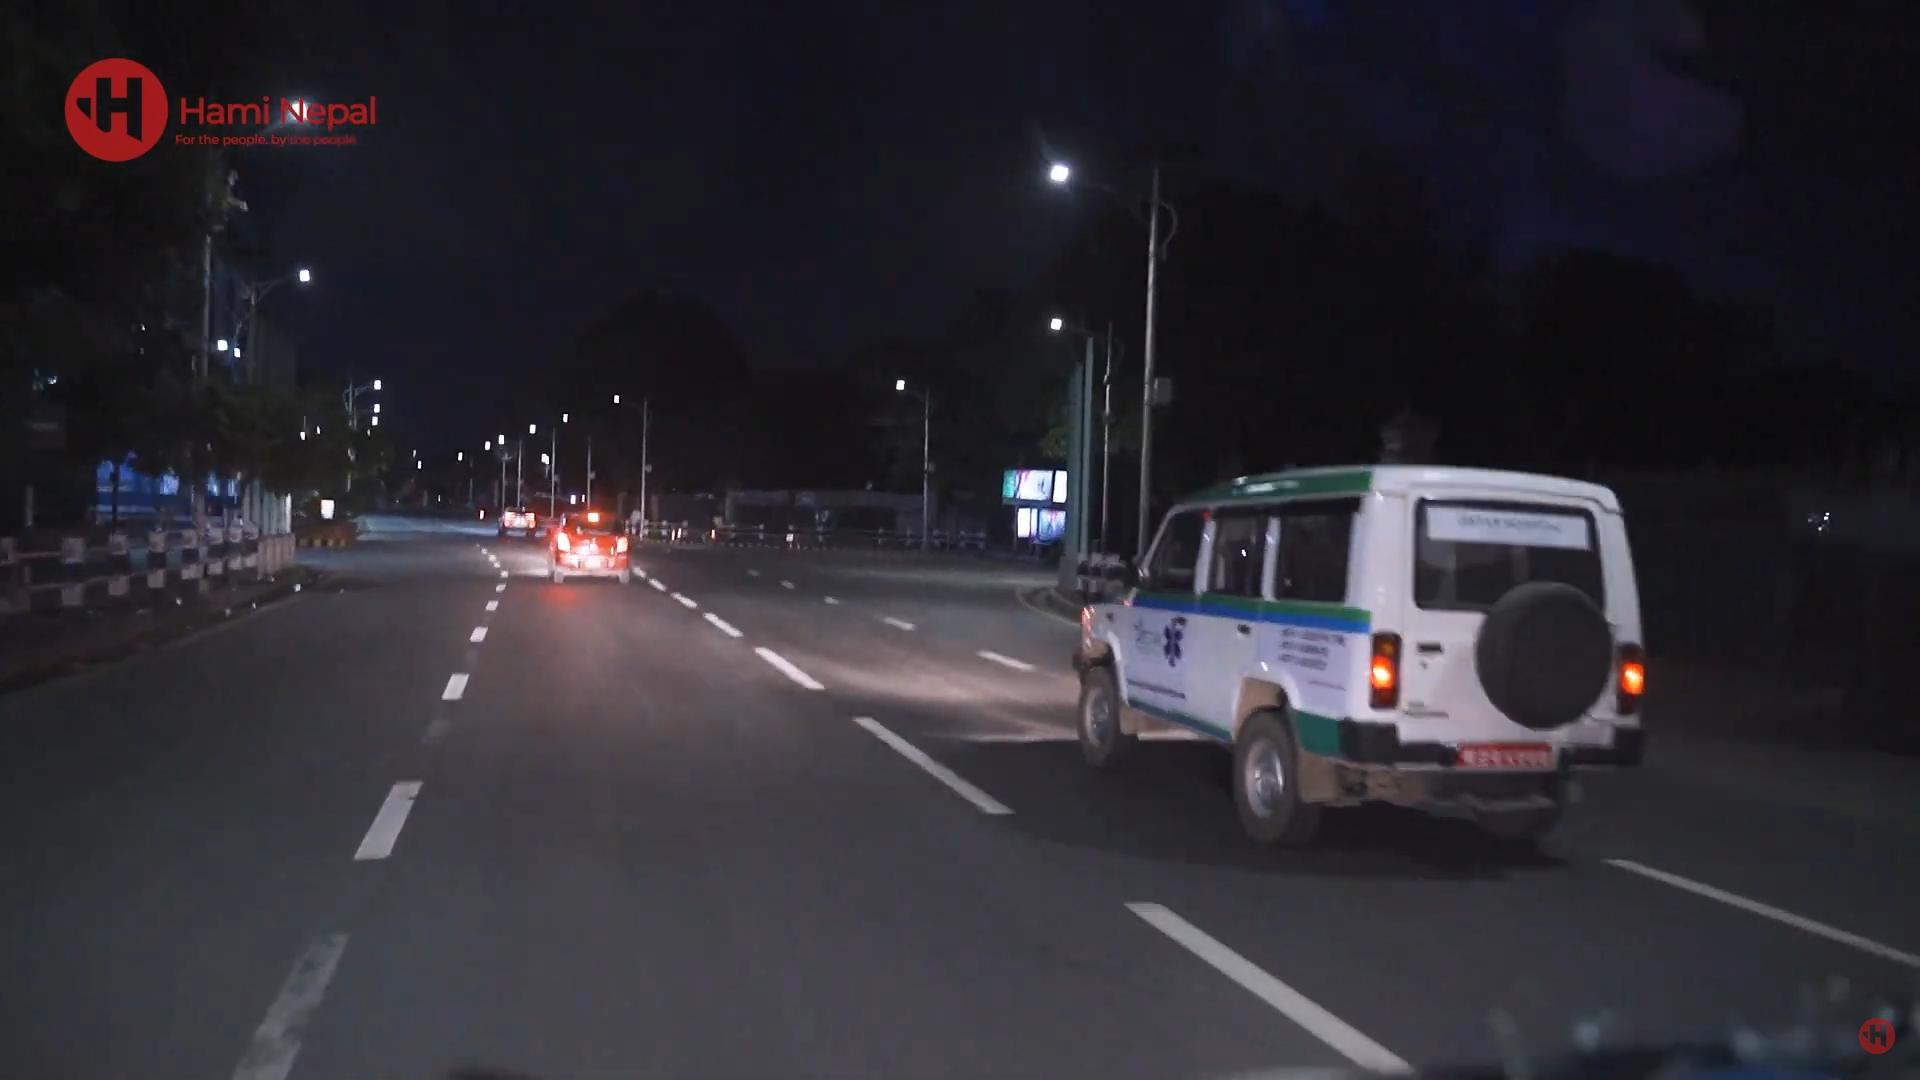ambulance: (1076, 447, 1669, 872)
car: (542, 497, 638, 595)
